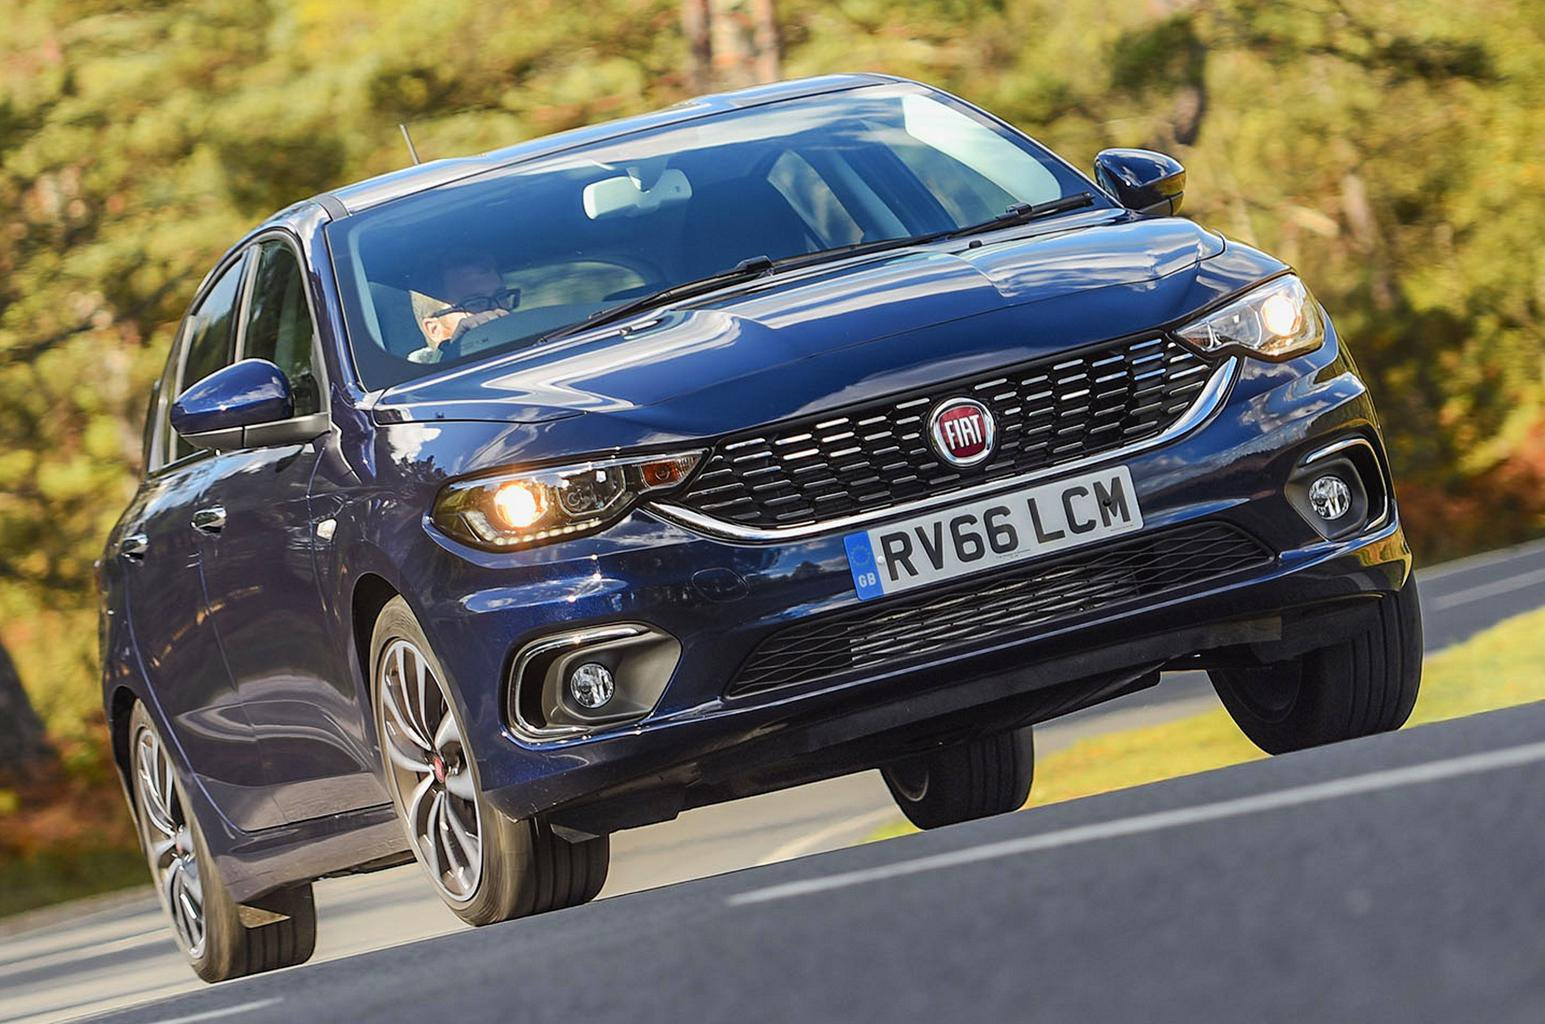Car: (103, 91, 1431, 959)
